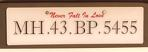4: (48, 20, 59, 35), (112, 20, 121, 36)
B: (74, 19, 87, 36)
H: (31, 19, 43, 37)
P: (87, 20, 99, 35), (102, 20, 112, 36), (130, 20, 139, 35), (122, 20, 130, 35)
m: (12, 18, 30, 37), (60, 20, 68, 35)
